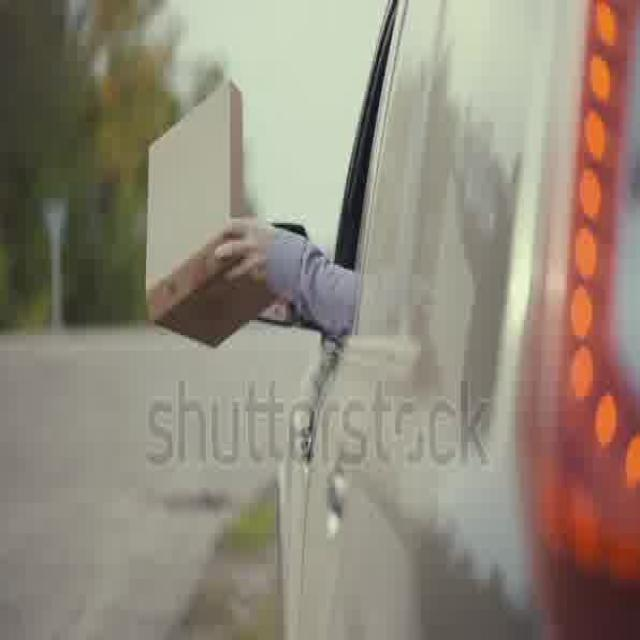garbage_dumping: (132, 79, 286, 352)
